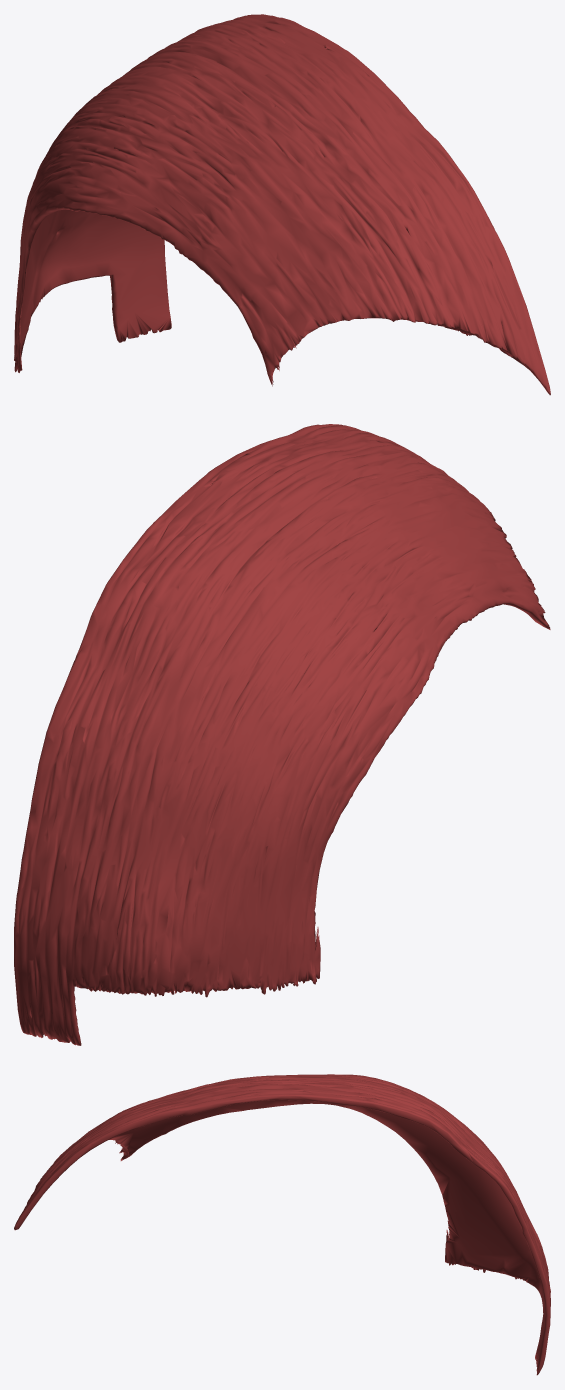
The model's file is epicranial-aponeurosis-r.glb.
3 renders of one model, top to bottom at view 1: azimuth 30°, elevation 25°; view 2: azimuth 150°, elevation 25°; view 3: azimuth 270°, elevation 25°, orthographic. The views are drawn at different scales.
Parts seen in each view (by area): view 1: Epicranial aponeurosis.r; view 2: Epicranial aponeurosis.r; view 3: Epicranial aponeurosis.r.
Part boxes in pixels (bbox=[...]): Epicranial aponeurosis.r: bbox=[14, 14, 550, 395]; Epicranial aponeurosis.r: bbox=[14, 424, 550, 1045]; Epicranial aponeurosis.r: bbox=[14, 1074, 550, 1375].
Bounding box in the file's own units: 0.0669 × 0.1091 × 0.1885.
